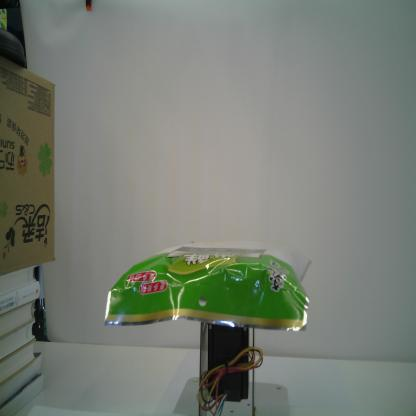Dried Food: (102, 236, 315, 336)
